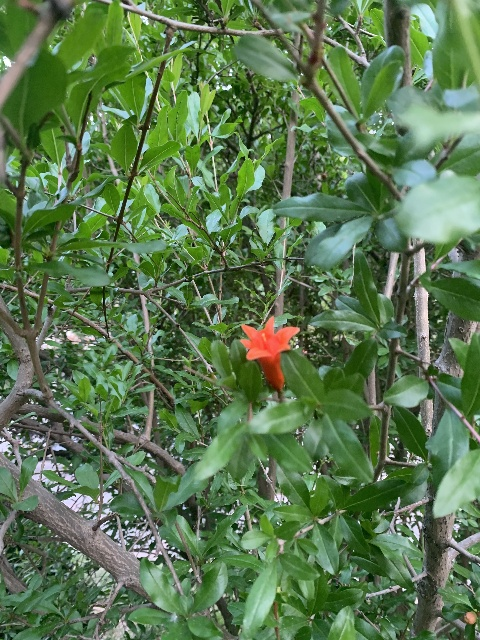bud: (463, 611, 477, 624)
flower: (238, 315, 299, 390)
